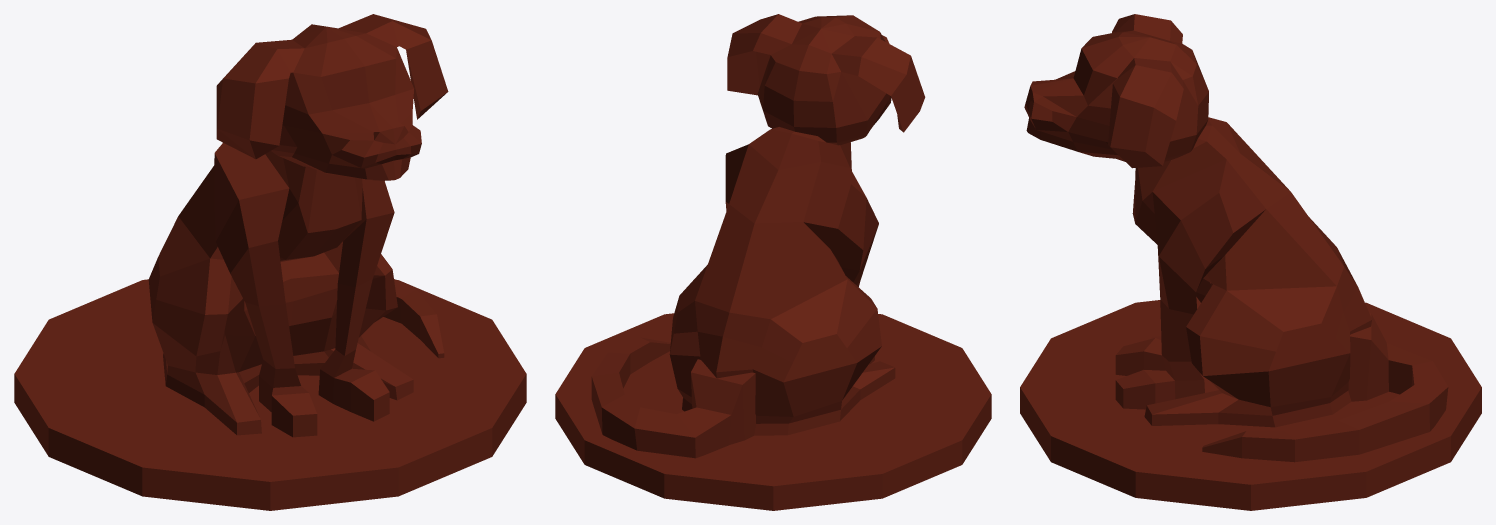
File: pawn_dog.glb
3 renders of one model, left to right at view 1: azimuth 30°, elevation 25°; view 2: azimuth 150°, elevation 25°; view 3: azimuth 270°, elevation 25°, orthographic. The views are drawn at different scales.
Parts seen in each view (by area): view 1: Socle.Dog, Dog_Body, Dog_Head, Dog_Tail; view 2: Dog_Body, Socle.Dog, Dog_Head, Dog_Tail; view 3: Dog_Body, Socle.Dog, Dog_Head, Dog_Tail.
Boxes of the visible parts, bbox=[...] form: Socle.Dog: bbox=[14, 279, 526, 510]; Dog_Body: bbox=[148, 143, 413, 437]; Dog_Head: bbox=[216, 14, 448, 180]; Dog_Tail: bbox=[383, 279, 444, 358]; Dog_Body: bbox=[669, 127, 895, 435]; Socle.Dog: bbox=[555, 313, 991, 510]; Dog_Head: bbox=[727, 14, 925, 145]; Dog_Tail: bbox=[591, 337, 755, 458]; Dog_Body: bbox=[1115, 117, 1371, 427]; Socle.Dog: bbox=[1020, 297, 1481, 510]; Dog_Head: bbox=[1024, 14, 1208, 168]; Dog_Tail: bbox=[1202, 313, 1448, 462].
Bounding box in the file's own units: 4 × 3.6 × 4.
